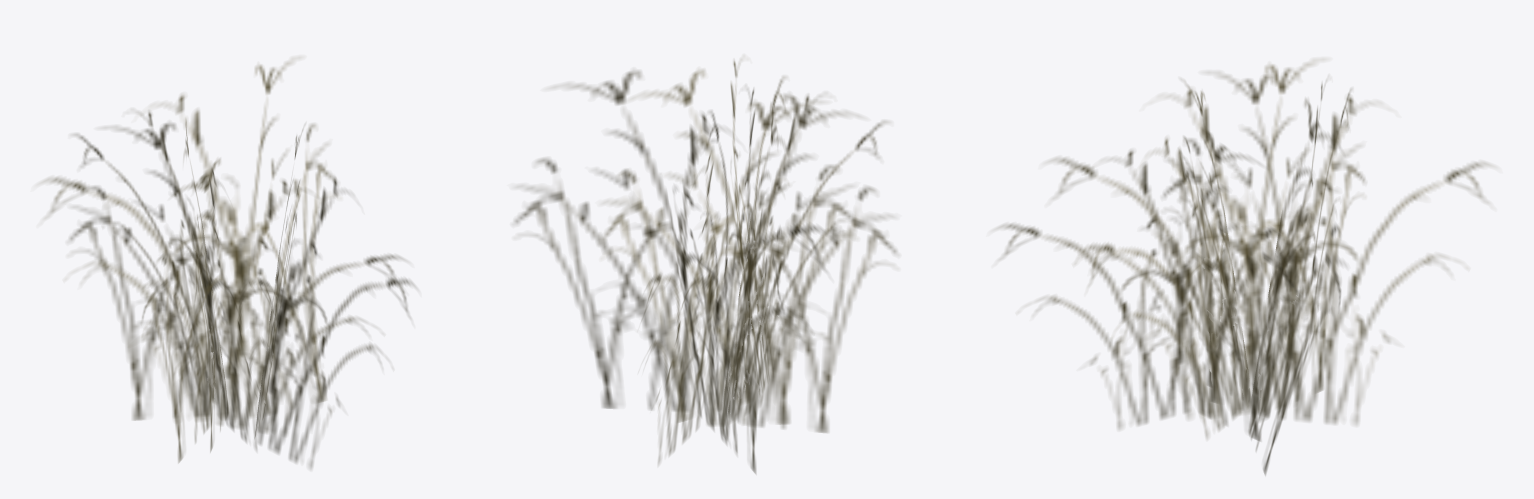
The model's file is ichu_12.glb.
3 renders of one model, left to right at view 1: azimuth 30°, elevation 25°; view 2: azimuth 150°, elevation 25°; view 3: azimuth 270°, elevation 25°, orthographic. The views are drawn at different scales.
Visible parts, largest first — view 1: Ichu; view 2: Ichu; view 3: Ichu.
Part boxes in pixels (x1=…): Ichu: x1=42, y1=59, x2=414, y2=468; Ichu: x1=514, y1=59, x2=896, y2=473; Ichu: x1=997, y1=60, x2=1491, y2=475.
Bounding box in the file's own units: 0.3971 × 0.43 × 0.5168.
1 material, 1 textured.
